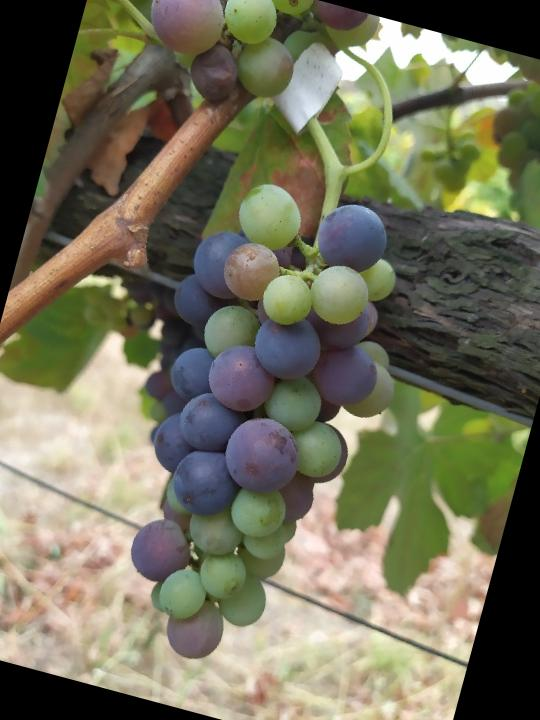grape: (82, 162, 444, 695)
